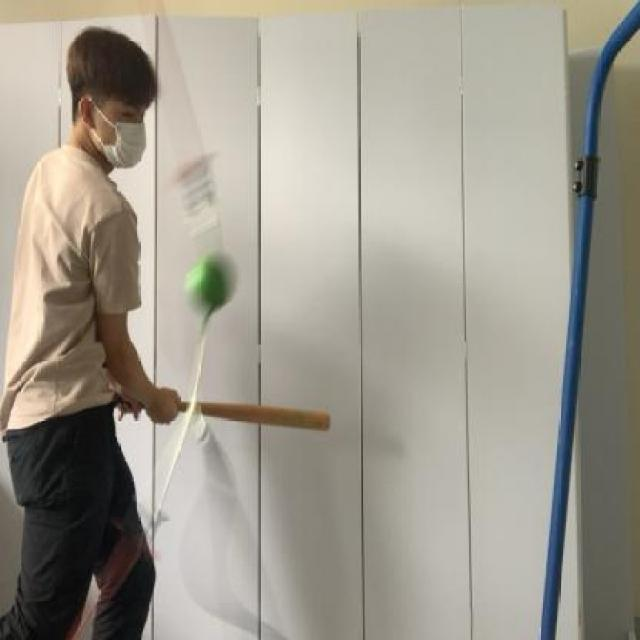baseball: (182, 240, 244, 318)
